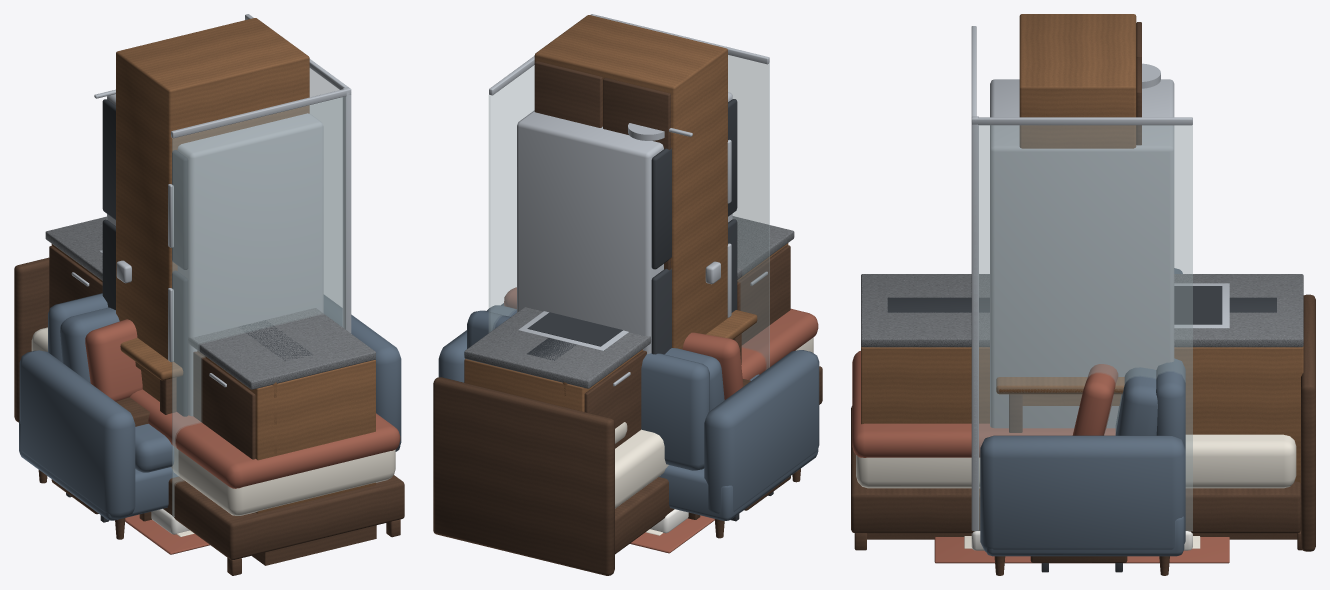
File: moveis.glb
The picture shows the model from 3 angles, left to right: view 1: azimuth 30°, elevation 25°; view 2: azimuth 150°, elevation 25°; view 3: azimuth 270°, elevation 25°; orthographic projection. The views are drawn at different scales.
Parts seen in each view (by area): view 1: box_banho, geladeira, guarda_roupa, bancada, cama, sofa, mesa_jantar, tapete, caixa_correio, rack_tv; view 2: cama, geladeira, guarda_roupa, sofa, bancada, box_banho, tapete, mesa_jantar, caixa_correio; view 3: box_banho, geladeira, bancada, sofa, cama, guarda_roupa, tapete, mesa_jantar, caixa_correio, rack_tv.
Part boxes in pixels (<box>): box_banho: <box>94,14,351,534</box>; geladeira: <box>102,94,323,416</box>; guarda_roupa: <box>116,18,309,401</box>; bancada: <box>45,216,376,565</box>; cama: <box>14,257,404,575</box>; sofa: <box>19,293,401,539</box>; mesa_jantar: <box>120,338,183,414</box>; tapete: <box>125,514,209,554</box>; caixa_correio: <box>239,320,312,360</box>; rack_tv: <box>51,397,149,522</box>; cama: <box>433,308,822,575</box>; geladeira: <box>517,92,737,354</box>; guarda_roupa: <box>534,15,727,349</box>; sofa: <box>438,287,819,538</box>; bancada: <box>464,216,794,448</box>; box_banho: <box>489,14,769,533</box>; tapete: <box>630,515,714,553</box>; mesa_jantar: <box>706,310,757,364</box>; caixa_correio: <box>527,338,575,360</box>; box_banho: <box>971,26,1192,550</box>; geladeira: <box>990,79,1174,428</box>; bancada: <box>861,274,1303,539</box>; sofa: <box>980,268,1185,575</box>; cama: <box>851,294,1315,551</box>; guarda_roupa: <box>1019,14,1141,148</box>; tapete: <box>934,536,1229,563</box>; mesa_jantar: <box>996,377,1124,432</box>; caixa_correio: <box>887,297,1276,312</box>; rack_tv: <box>1030,556,1127,572</box>.
Size of the model in its own units: 1.49 by 2.05 by 1.89.
Materials: 22 (4 with a texture image).
